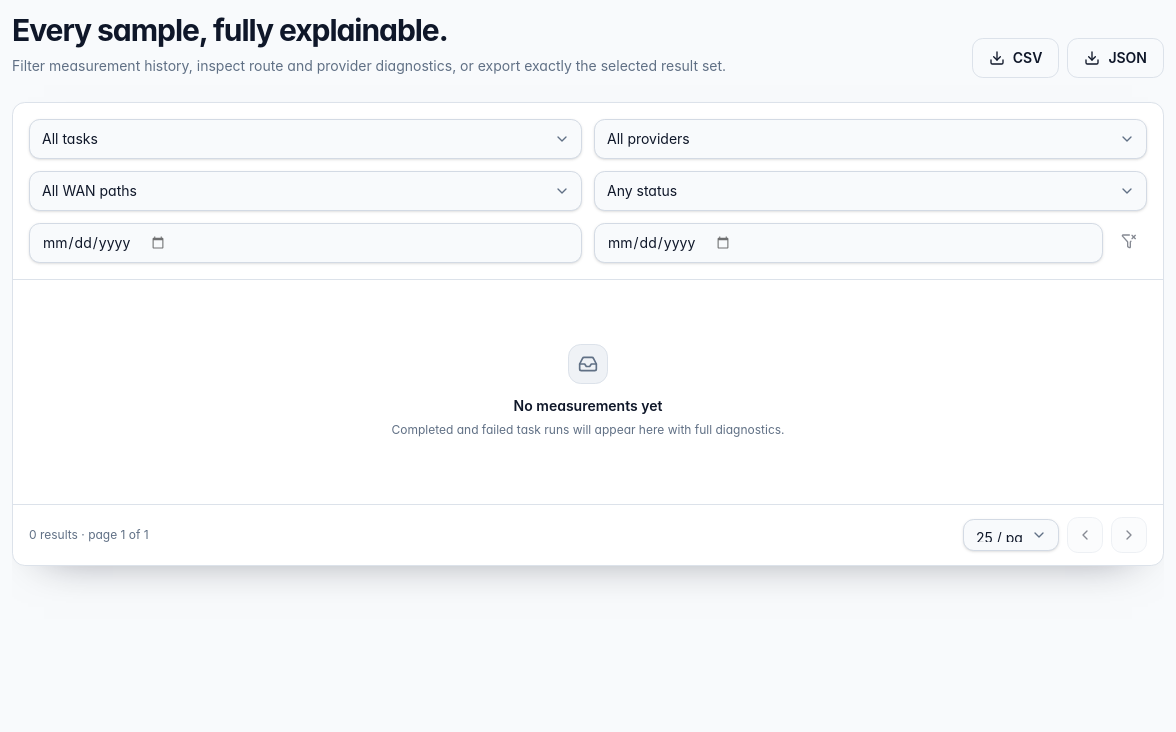
Test: result filters and empty states › exposes task, provider, WAN, status, and date filters
This screenshot has width=1176, height=732.
Expected: the heading "No measurements yet" is shown, x1=514 y1=396 x2=662 y2=416
Expected: the dropdown named "Filter results by task" is shown, x1=29 y1=119 x2=582 y2=159
Select "Failed" in the dropdown named "Filter results by status" at [870, 191], box x1=594 y1=171 x2=1147 y2=211
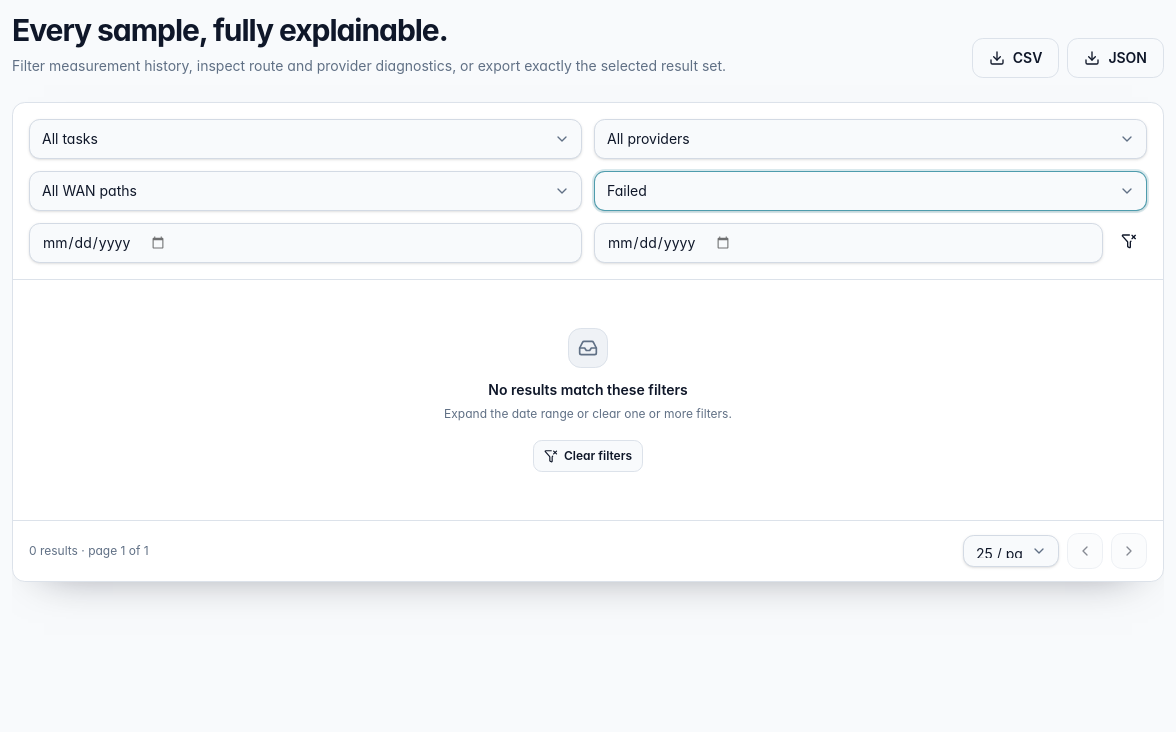
Expected: the heading "No results match these filters" is shown, x1=488 y1=380 x2=688 y2=400
